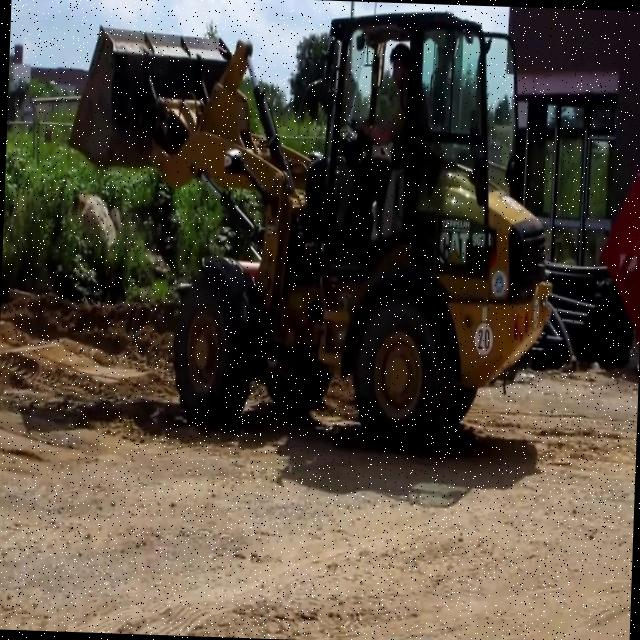Loader: (55, 0, 563, 460)
